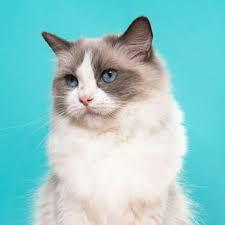ragdoll: (38, 14, 170, 147)
